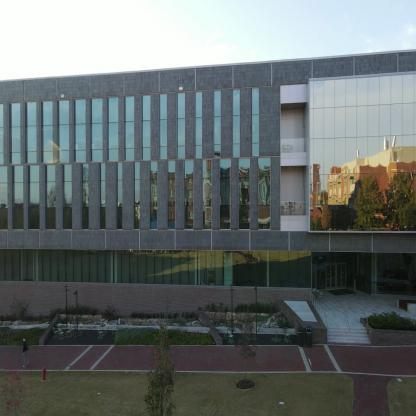Fitts- Woolard: (6, 35, 415, 353)
